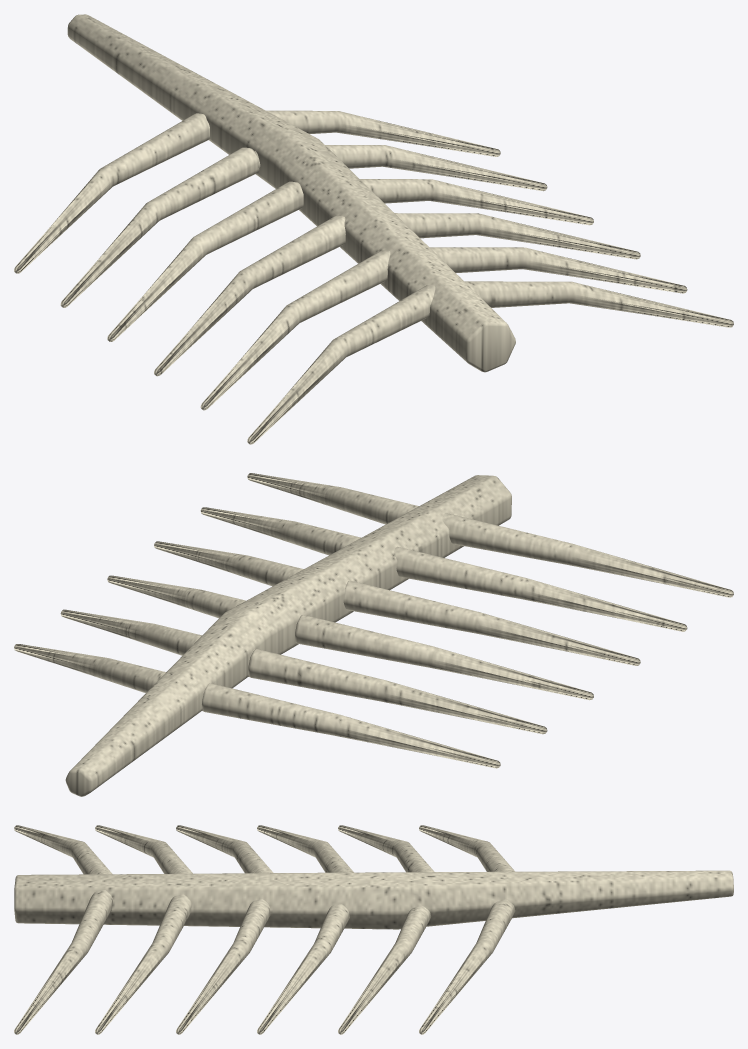
File: food-11-half.glb
3 views of the same model, one above another, from view 1: azimuth 30°, elevation 25°; view 2: azimuth 150°, elevation 25°; view 3: azimuth 270°, elevation 25° (orthographic). The views are drawn at different scales.
Parts seen in each view (by area): view 1: Food; view 2: Food; view 3: Food.
Part boxes in pixels (x1,y1,x2,y2): Food: (14, 14, 733, 444); Food: (14, 473, 733, 796); Food: (14, 825, 733, 1034).
Size of the model in its own units: 0.4207 by 0.0671 by 0.6224.
Materials: 1 (1 with a texture image).
